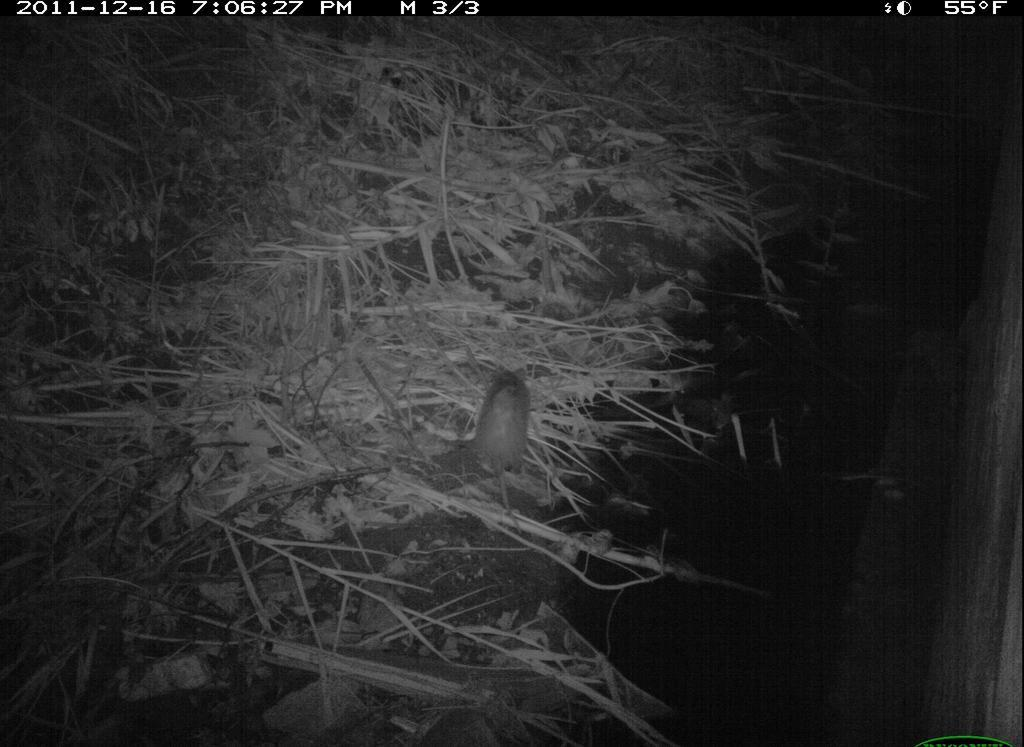opossum: (457, 358, 546, 542)
